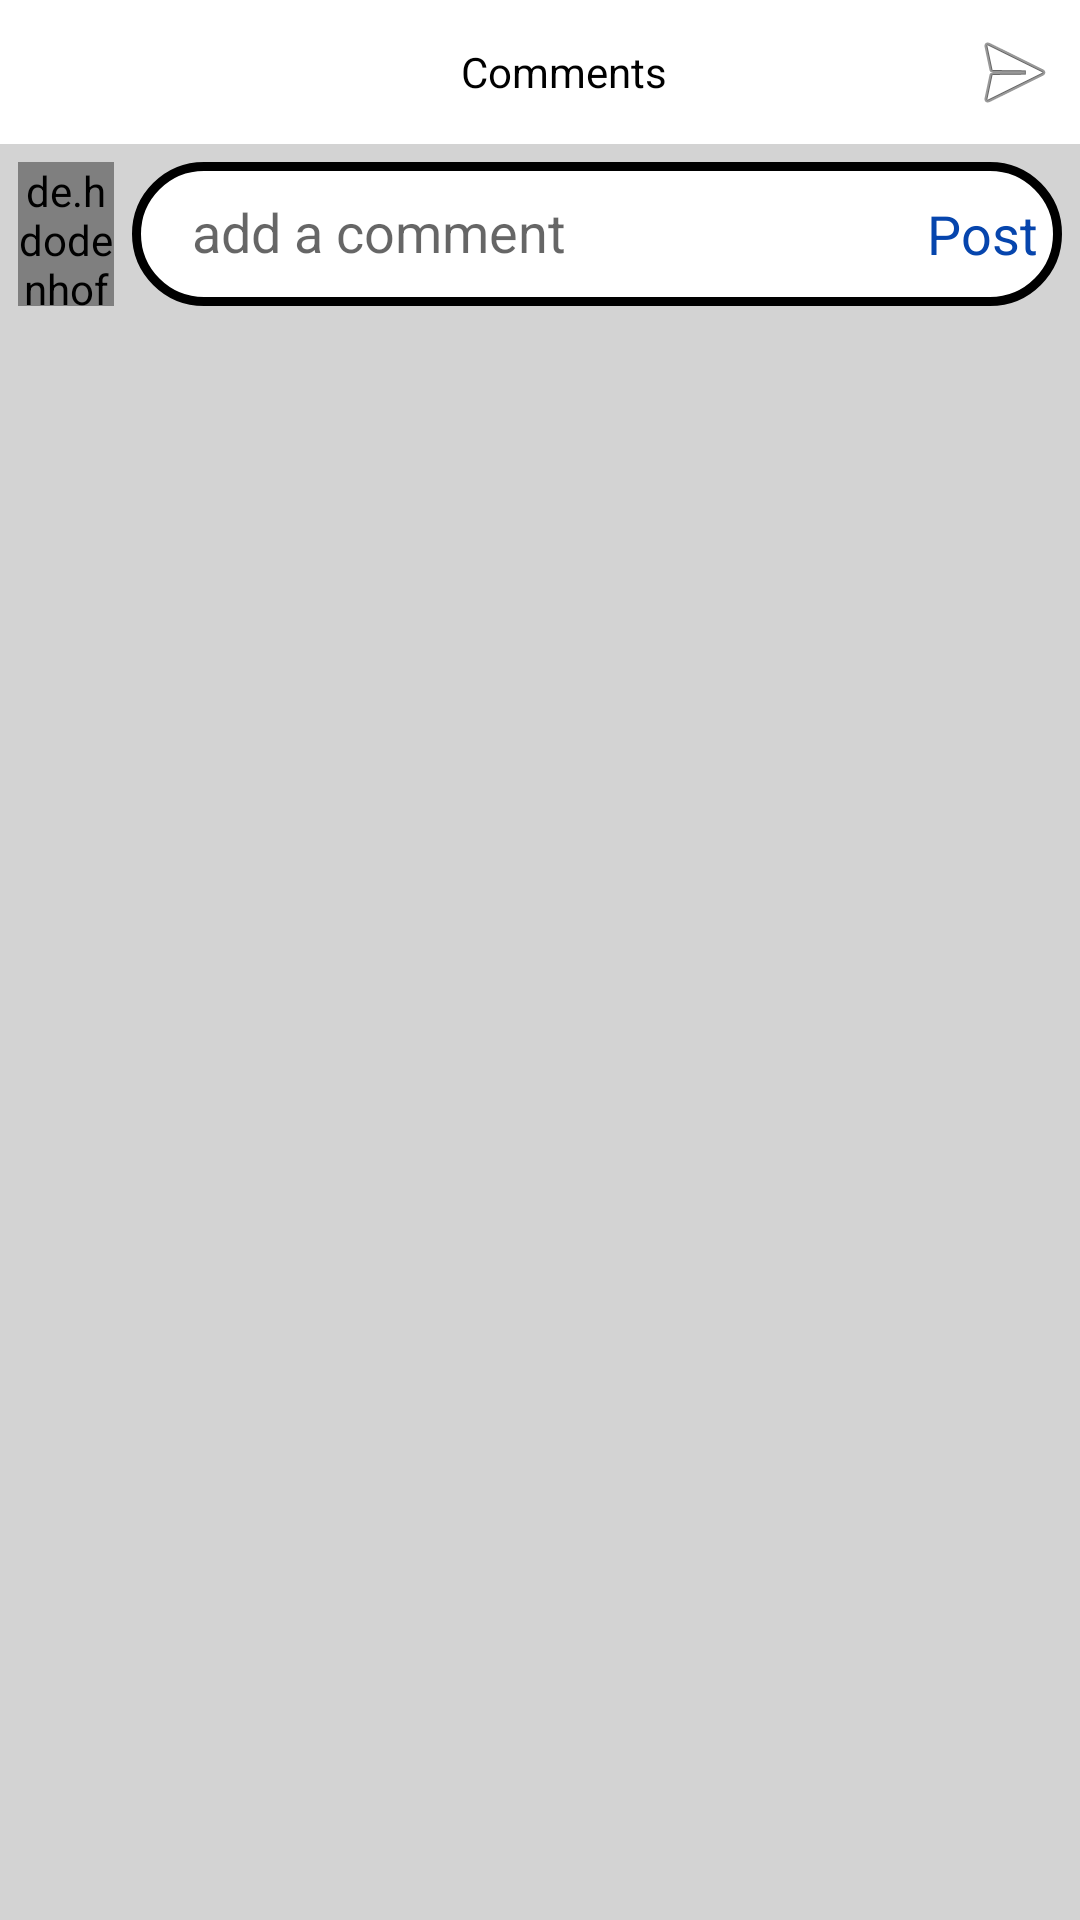

Icons on this 1080px×1920px Android screen, each with the point to tap as (x=x, y=y):
send: (x=1015, y=72)
